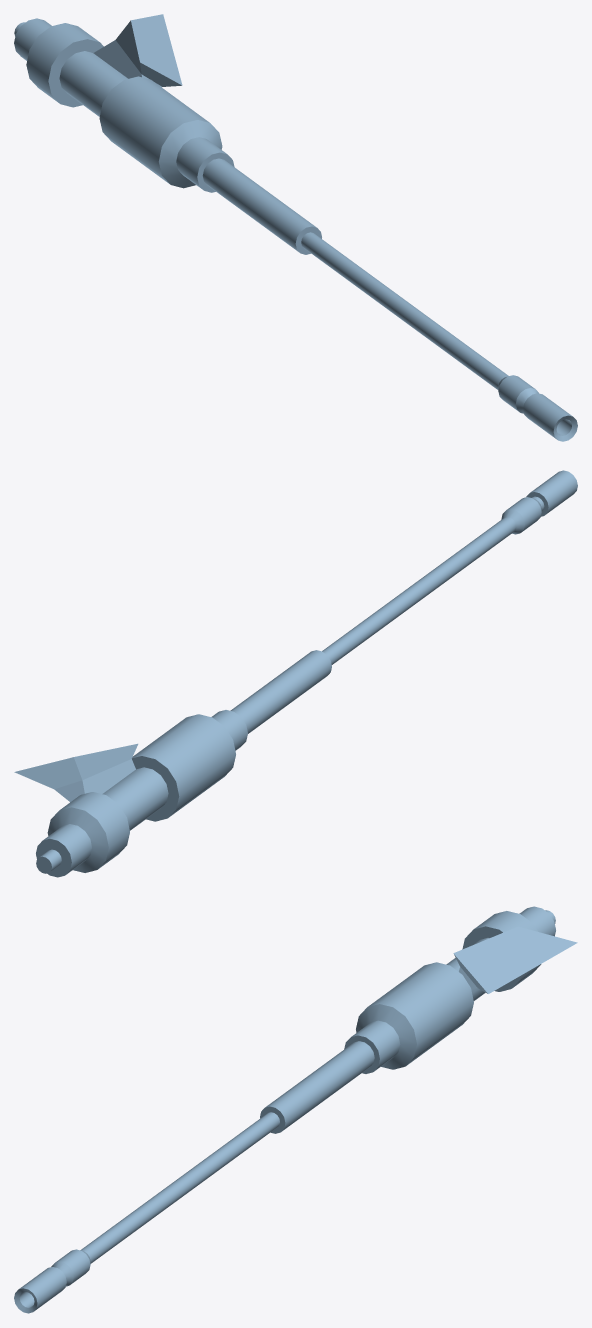
Rendered from gun Dwn R.FBX.
The picture shows the model from 3 angles, top to bottom: view 1: azimuth 30°, elevation 25°; view 2: azimuth 150°, elevation 25°; view 3: azimuth 330°, elevation 25°; orthographic projection. The views are drawn at different scales.
Parts seen in each view (by area): view 1: Cylinder02; view 2: Cylinder02; view 3: Cylinder02.
Boxes of the visible parts, <box> form: Cylinder02: <box>14,14,577,441</box>; Cylinder02: <box>14,470,577,877</box>; Cylinder02: <box>14,906,577,1313</box>.
Bounding box in the file's own units: 0.0204 × 0.1631 × 0.014.
